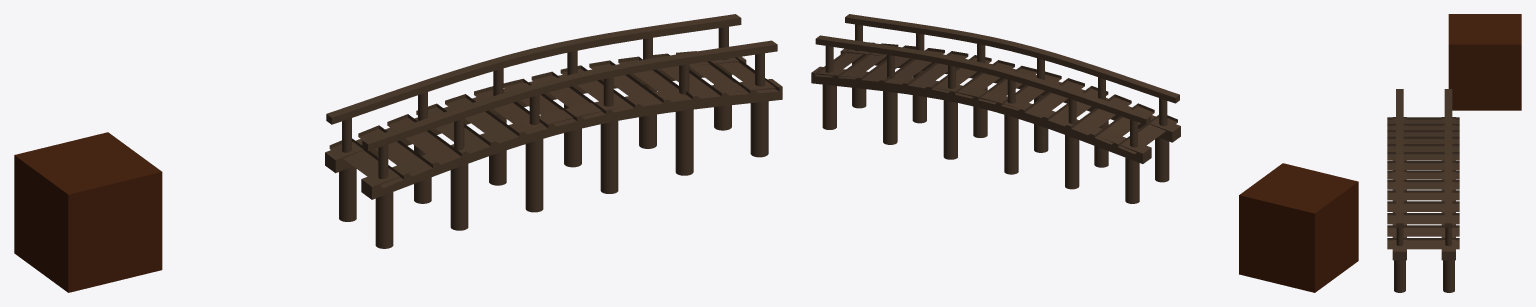
Rendered from BuildBlocks.fbx.
3 views of the same model, side by side, from view 1: azimuth 30°, elevation 25°; view 2: azimuth 150°, elevation 25°; view 3: azimuth 270°, elevation 25° (orthographic). The views are drawn at different scales.
Visible parts, largest first — view 1: Cylinder, Dirt; view 2: Cylinder, Dirt; view 3: Cylinder, Dirt.
Part boxes in pixels (left/top/right/bottom): Cylinder: left=325, top=14, right=782, bottom=248; Dirt: left=14, top=132, right=162, bottom=292; Cylinder: left=811, top=14, right=1180, bottom=203; Dirt: left=1239, top=163, right=1358, bottom=292; Cylinder: left=1387, top=89, right=1459, bottom=292; Dirt: left=1448, top=14, right=1521, bottom=110.
Size of the model in its own units: 2149 by 394 by 553.
